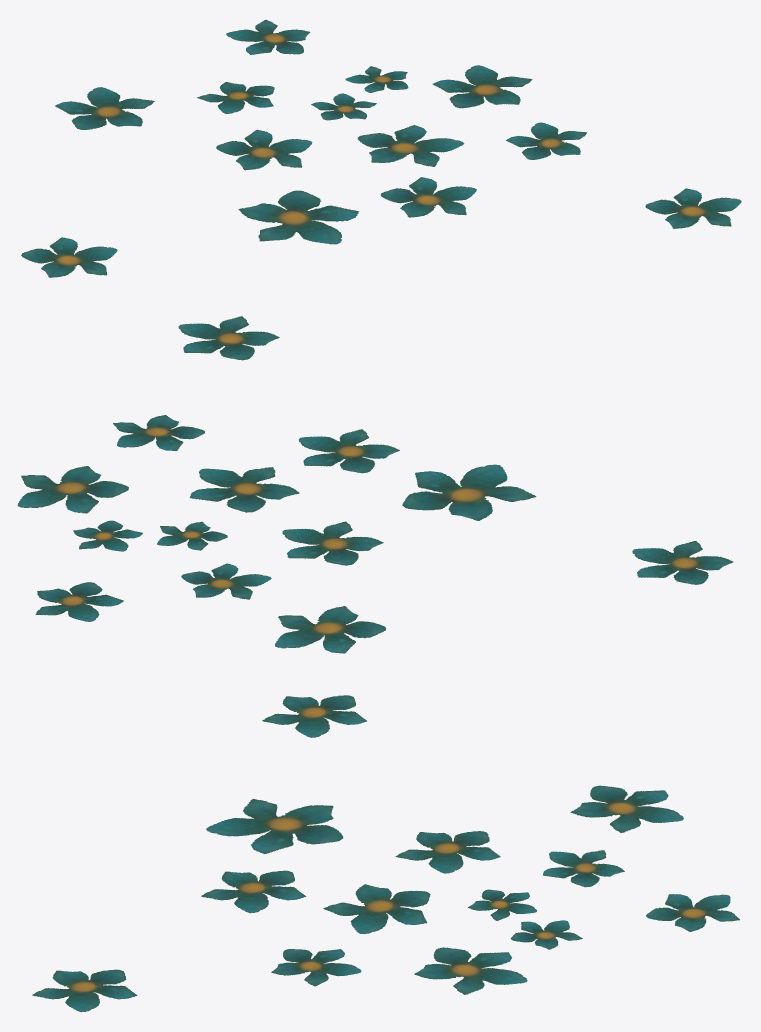
Rendered from 110101_flower_015.FBX.
3 renders of one model, top to bottom at view 1: azimuth 30°, elevation 25°; view 2: azimuth 150°, elevation 25°; view 3: azimuth 270°, elevation 25°, orthographic. The views are drawn at different scales.
Visible parts, largest first — view 1: 110101_flower_015; view 2: 110101_flower_015; view 3: 110101_flower_015.
Boxes of the visible parts, x1=… form: 110101_flower_015: x1=21, y1=19, x2=741, y2=277; 110101_flower_015: x1=17, y1=316, x2=733, y2=653; 110101_flower_015: x1=32, y1=695, x2=739, y2=1012.
Bounding box in the file's own units: 2.2 × 0.00947 × 2.04.
